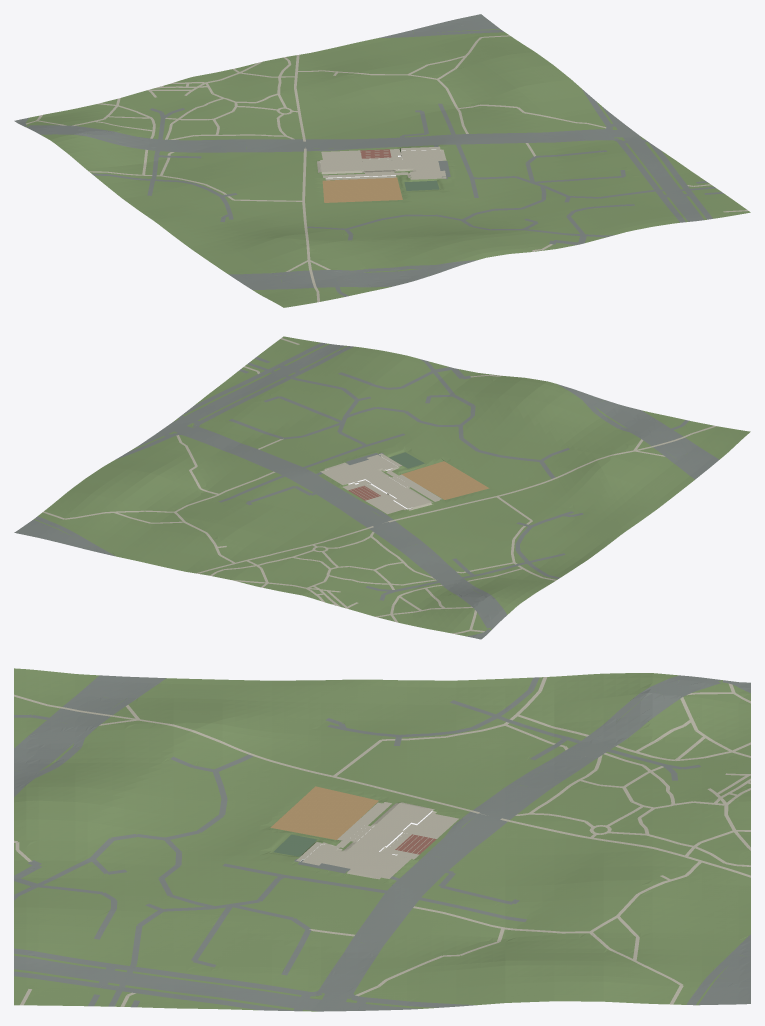
3 views of the same model, one above another, from view 1: azimuth 30°, elevation 25°; view 2: azimuth 150°, elevation 25°; view 3: azimuth 270°, elevation 25° (orthographic). The views are drawn at different scales.
Visible parts, largest first — view 1: surface_ground, surface_osm-road-145112703, surface_osm-road-1264707927, surface_osm-road-1252736523, surface_osm-road-231023713, surface_earth-field, surface_osm-road-568621793, surface_osm-road-568621791, surface_under-main, surface_osm-road-680046867, surface_osm-road-1264707930, surface_osm-road-1462811048 (+4 smaller); view 2: surface_ground, surface_osm-road-145112703, surface_osm-road-231023713, surface_osm-road-1264707927, surface_osm-road-1252736523, surface_earth-field, surface_osm-road-568621793, surface_osm-road-568621791, surface_under-main, surface_osm-road-680046867, surface_osm-road-1264707930, surface_osm-road-1263946644 (+5 smaller); view 3: surface_ground, surface_osm-road-145112703, surface_osm-road-231023713, surface_osm-road-1264707927, surface_osm-road-1252736523, surface_earth-field, surface_osm-road-568621793, surface_osm-road-568621791, surface_osm-road-680046867, surface_under-main, surface_osm-road-1263946644, surface_osm-road-1264707930 (+12 smaller).
Part boxes in pixels (box(x1,y1,x2,y2)): surface_ground: box(24, 29, 750, 307); surface_osm-road-145112703: box(160, 129, 630, 149); surface_osm-road-1264707927: box(36, 132, 658, 188); surface_osm-road-1252736523: box(19, 30, 612, 142); surface_osm-road-231023713: box(602, 106, 703, 221); surface_earth-field: box(322, 177, 402, 202); surface_osm-road-568621793: box(232, 263, 466, 282); surface_osm-road-568621791: box(241, 276, 429, 289); surface_under-main: box(320, 159, 438, 171); surface_osm-road-680046867: box(25, 126, 157, 148); surface_osm-road-1264707930: box(228, 260, 477, 276); surface_osm-road-1462811048: box(394, 23, 499, 34); surface_ground: box(33, 336, 750, 636); surface_osm-road-145112703: box(168, 424, 456, 581); surface_osm-road-231023713: box(135, 344, 345, 447); surface_osm-road-1264707927: box(192, 379, 506, 618); surface_osm-road-1252736523: box(34, 432, 490, 637); surface_earth-field: box(401, 461, 489, 499); surface_osm-road-568621793: box(567, 387, 707, 476); surface_osm-road-568621791: box(605, 400, 718, 468); surface_under-main: box(351, 460, 430, 508); surface_osm-road-680046867: box(443, 579, 503, 629); surface_osm-road-1264707930: box(557, 384, 698, 479); surface_osm-road-1263946644: box(180, 342, 326, 416); surface_ground: box(14, 668, 750, 1011); surface_osm-road-145112703: box(319, 744, 604, 1007); surface_osm-road-231023713: box(14, 955, 421, 1011); surface_osm-road-1264707927: box(138, 675, 689, 996); surface_osm-road-1252736523: box(348, 680, 750, 1007); surface_earth-field: box(270, 786, 378, 839); surface_osm-road-568621793: box(14, 677, 155, 791); surface_osm-road-568621791: box(14, 675, 130, 770); surface_osm-road-680046867: box(587, 676, 721, 748); surface_under-main: box(323, 803, 432, 867); surface_osm-road-1263946644: box(14, 971, 297, 1011); surface_osm-road-1264707930: box(14, 677, 166, 796).
Bounding box in the file's own units: 480 × 24.71 × 480.
6 materials, 6 textured.
